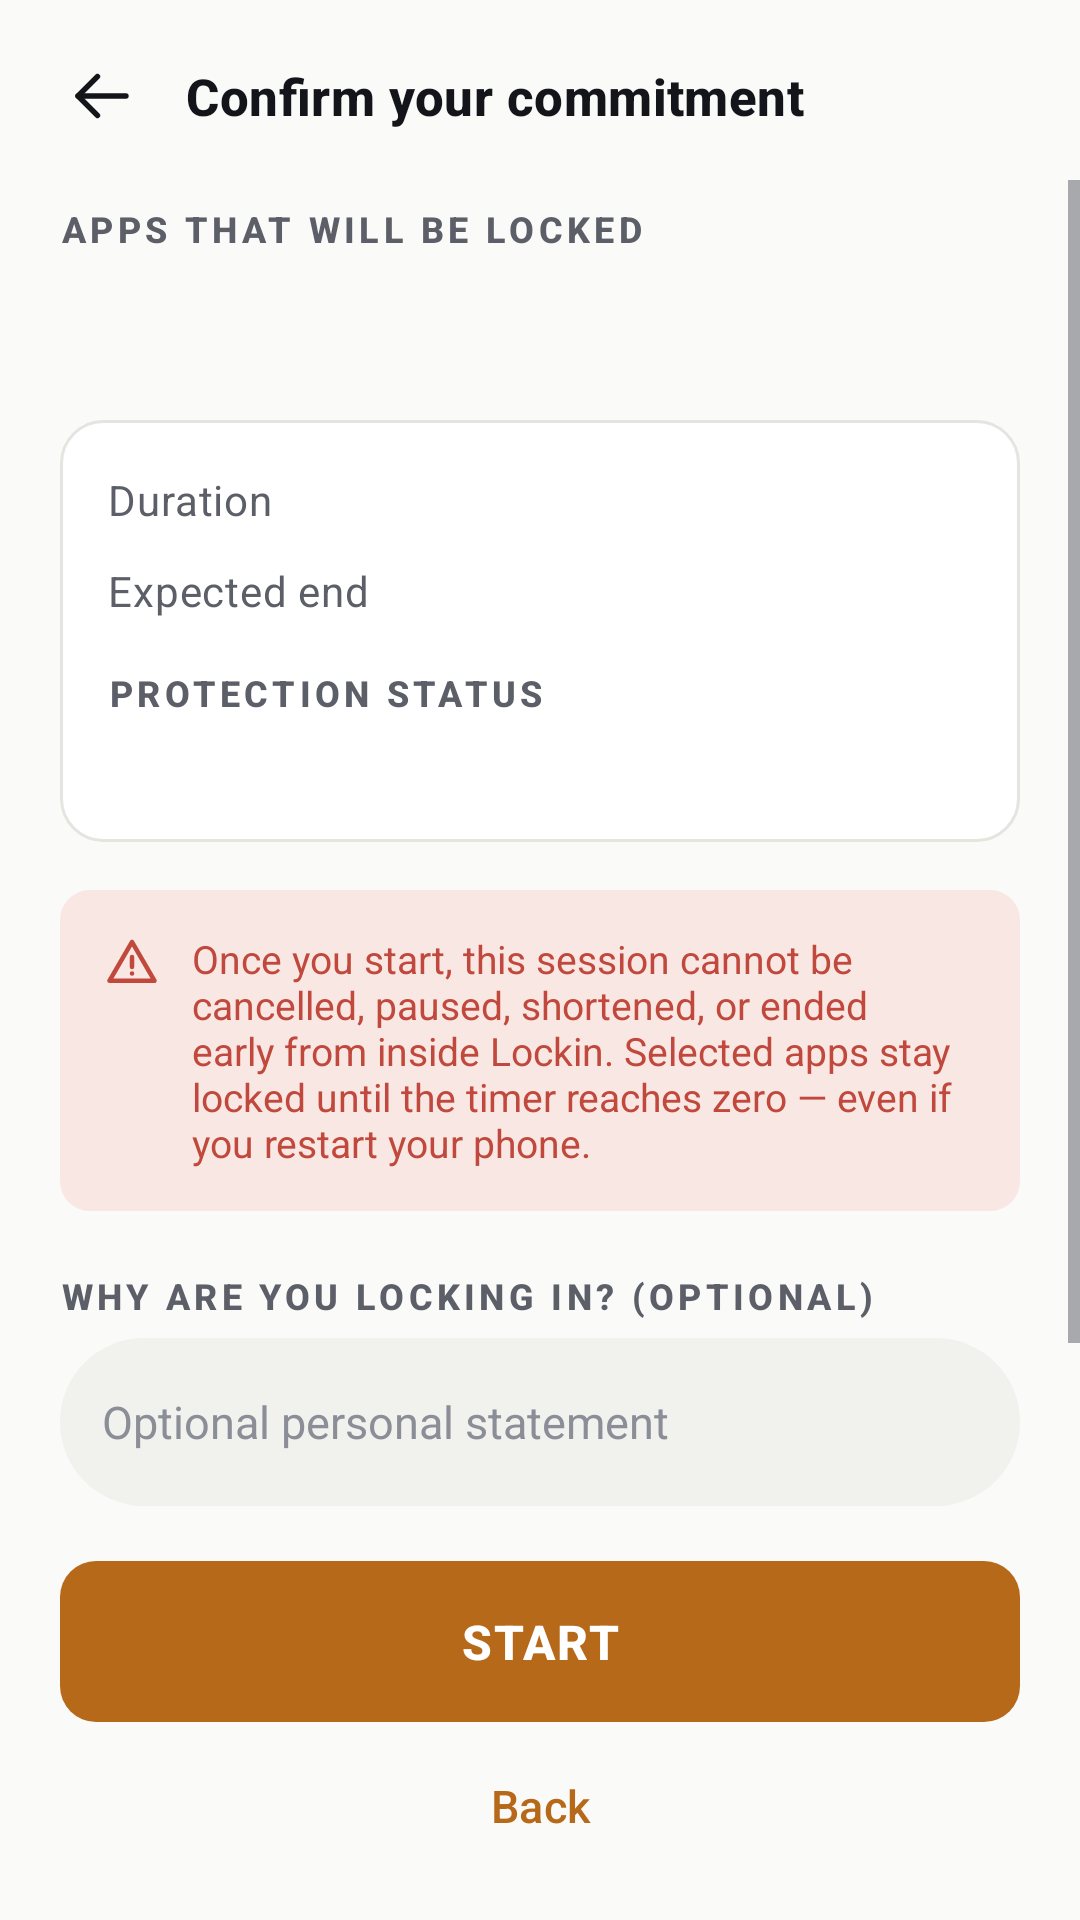

Icon click points for this 1080×1920 phone screenshot, format point (x, y):
Back: point (102, 96)
warning: point (132, 961)
